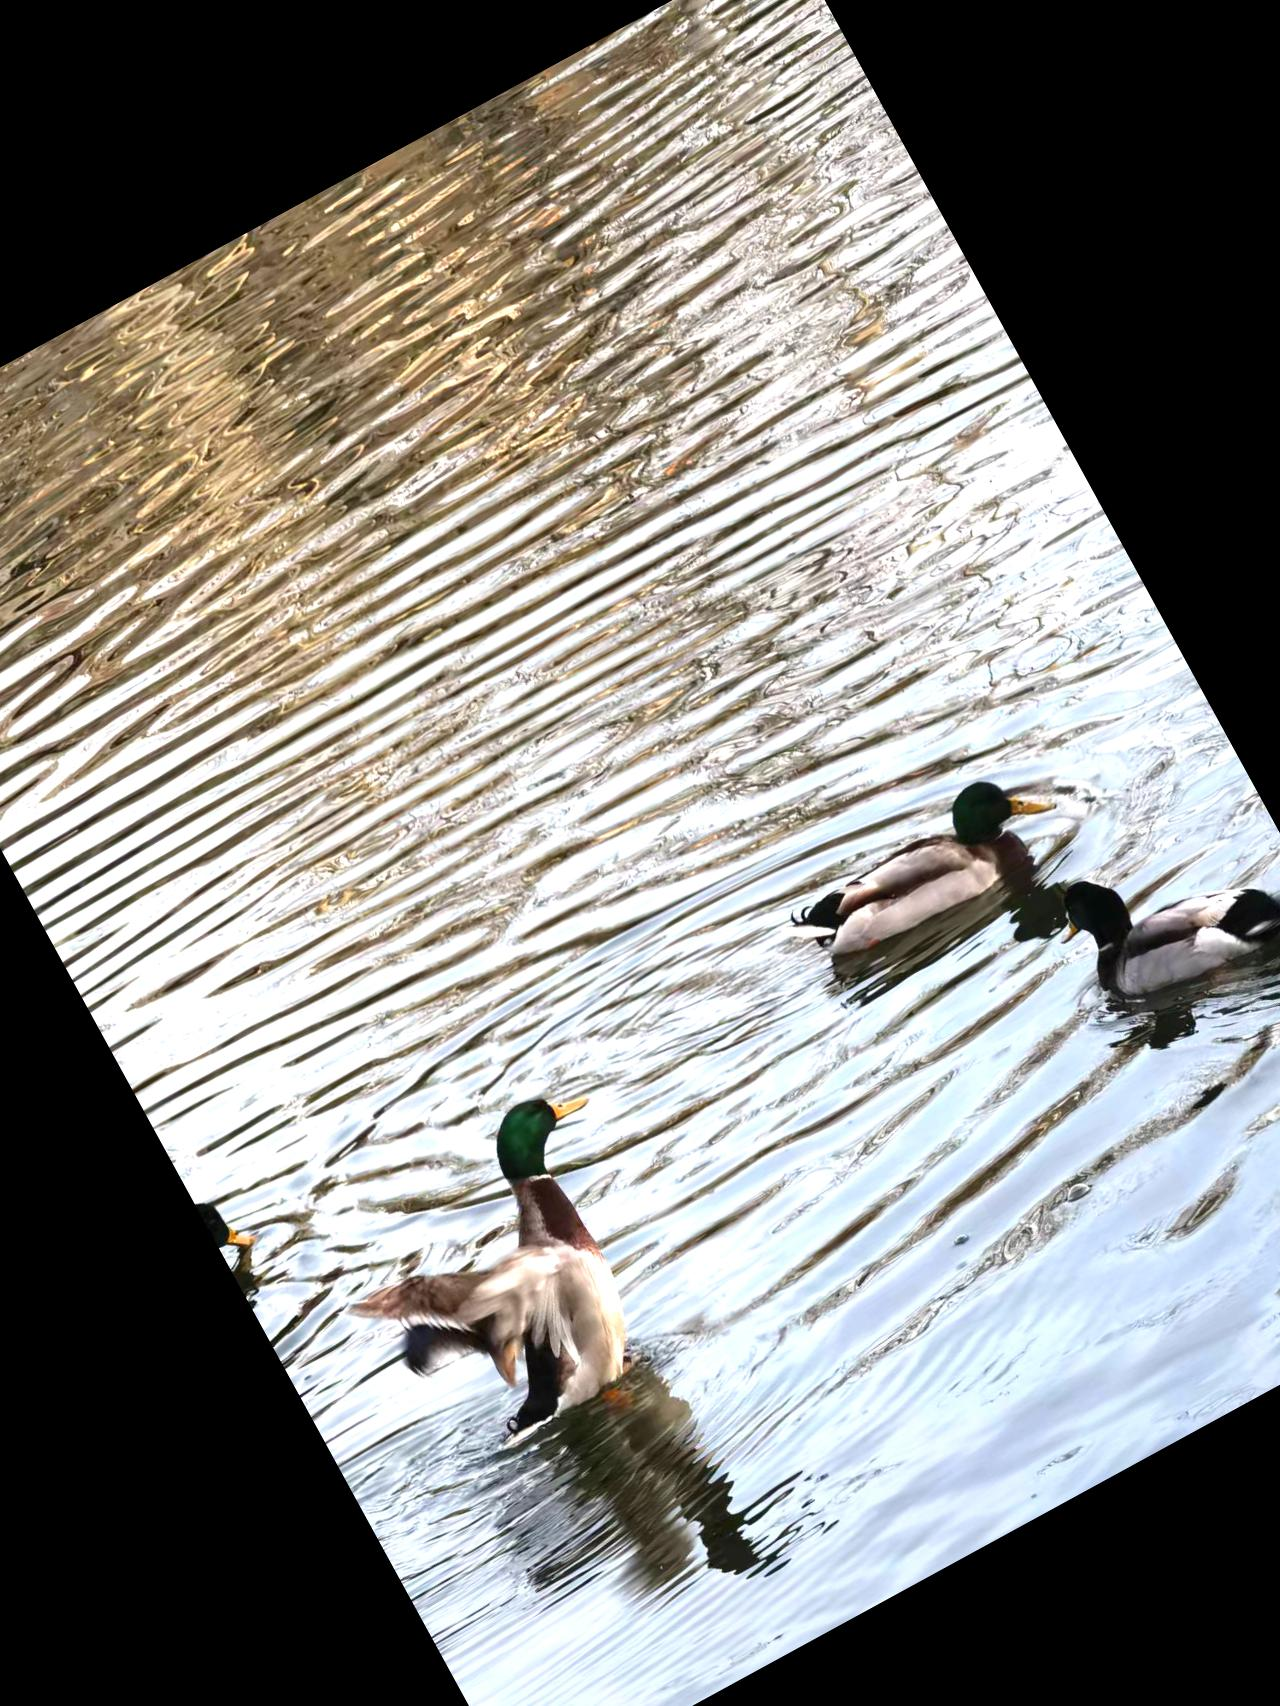duck: (294, 1053, 746, 1514), (745, 741, 1076, 1011), (1033, 795, 1280, 1059)
